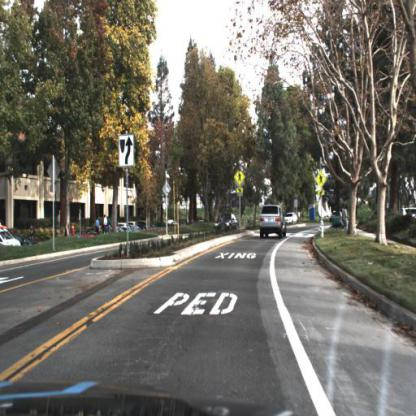car: (258, 205, 288, 241), (213, 209, 241, 236), (1, 224, 22, 253)
pedestrian: (343, 206, 350, 235), (94, 213, 102, 237), (343, 205, 351, 228), (102, 214, 109, 235), (104, 215, 109, 234), (29, 225, 36, 238), (104, 214, 109, 231)
